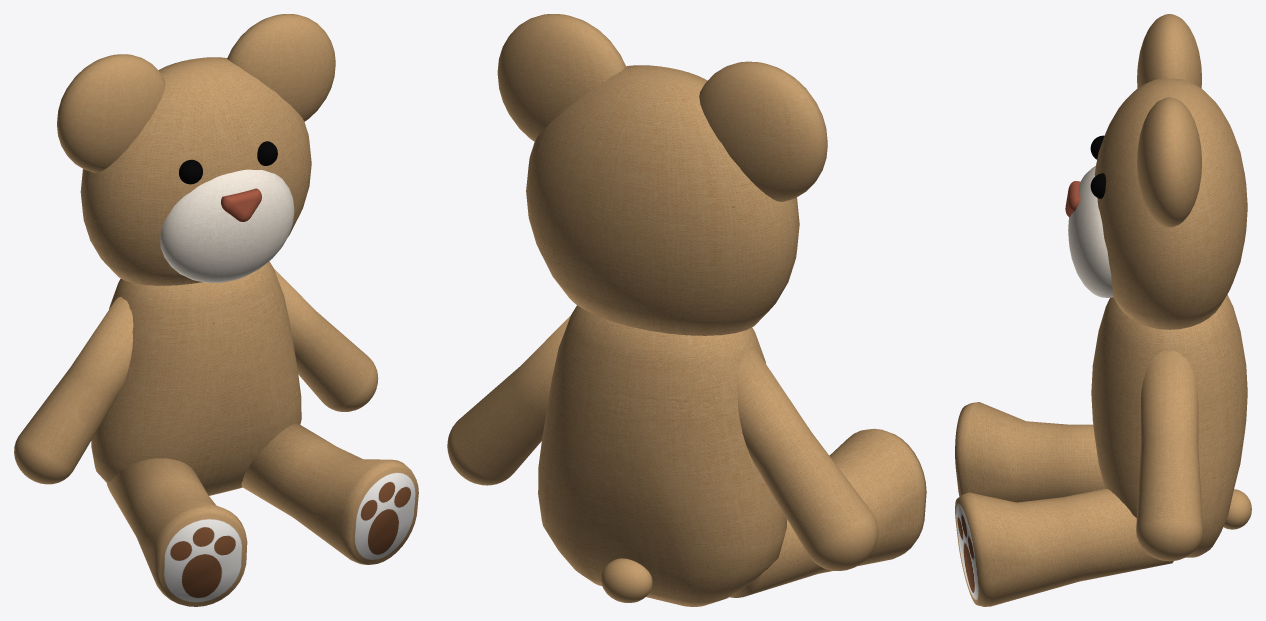
Rendered from FabricBear.fbx.
3 views of the same model, side by side, from view 1: azimuth 30°, elevation 25°; view 2: azimuth 150°, elevation 25°; view 3: azimuth 270°, elevation 25° (orthographic). The views are drawn at different scales.
Visible parts, largest first — view 1: body, head, leg_left, leg_right, mouth, ear_right, ear_left, arm_left, arm_right, arm_right_cut, nose; view 2: body, head, ear_right, arm_right, ear_left, leg_right, arm_left, arm_right_cut, tail; view 3: head, body, leg_left, arm_left, leg_right, ear_left, ear_right, mouth, tail.
Part boxes in pixels (<box>): body: <box>91,261,301,495</box>; head: <box>80,57,311,285</box>; leg_left: <box>241,423,418,564</box>; leg_right: <box>106,458,247,606</box>; mouth: <box>160,169,294,282</box>; ear_right: <box>57,54,165,172</box>; ear_left: <box>227,14,335,121</box>; arm_left: <box>274,269,378,411</box>; arm_right: <box>14,297,133,484</box>; arm_right_cut: <box>14,299,133,484</box>; nose: <box>221,188,261,221</box>; body: <box>538,305,786,606</box>; head: <box>526,65,799,335</box>; ear_right: <box>699,61,827,201</box>; arm_right: <box>737,349,878,570</box>; ear_left: <box>497,14,625,141</box>; leg_right: <box>729,428,926,597</box>; arm_left: <box>447,315,570,485</box>; arm_right_cut: <box>737,349,878,570</box>; tail: <box>601,558,652,602</box>; head: <box>1094,78,1247,329</box>; body: <box>1091,294,1247,557</box>; leg_left: <box>955,488,1173,606</box>; arm_left: <box>1136,351,1202,561</box>; leg_right: <box>955,402,1104,502</box>; ear_left: <box>1137,97,1201,227</box>; ear_right: <box>1137,14,1201,88</box>; mouth: <box>1068,166,1113,297</box>; tail: <box>1223,489,1251,529</box>.
Size of the model in its own units: 3.25 by 4.2 by 2.28.
